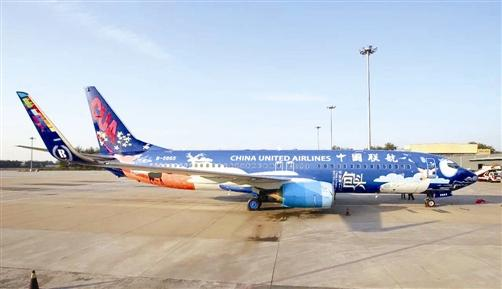airplane: (14, 86, 479, 214)
